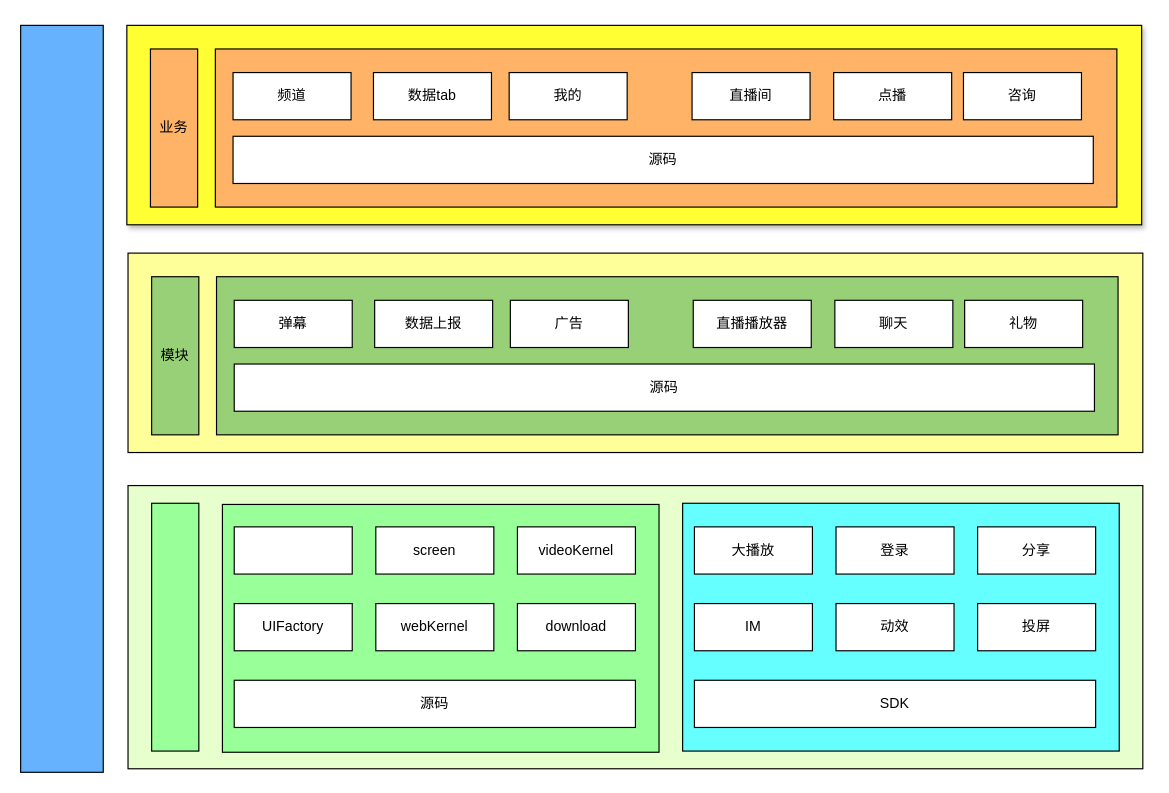
The diagram is 1169 pixels wide and 793 high, and some of its shapes have lost their labels. Here are the shapes that lost their labels. From the top down, the centre of each, then its label:
point (61, 398): 体 育 移 动 端 业 务 分 层 现 状
point (292, 550): 网络
point (174, 626): core
